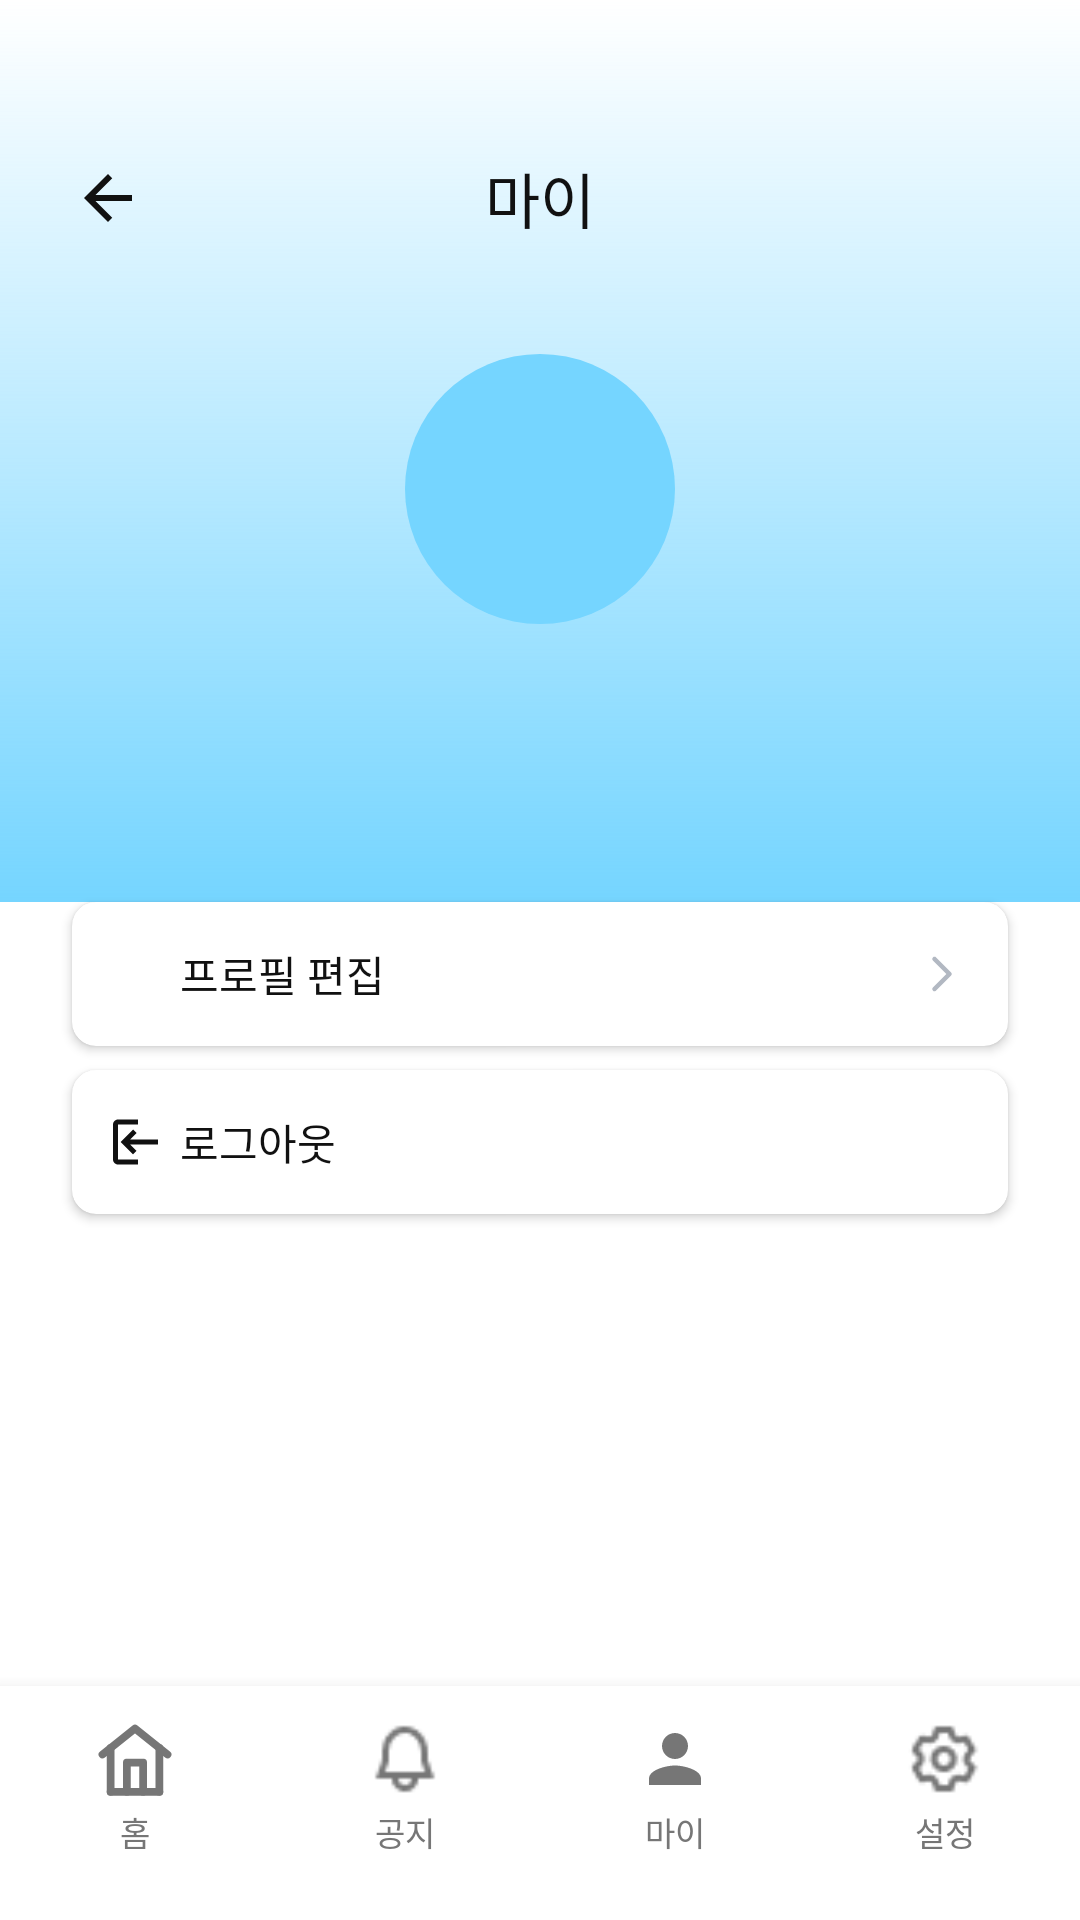

Icons on this 1080px x 1920px Android screen, each with its box as (x1, y1, x2, y2):
back: (84, 174, 132, 222)
chevron right: (932, 957, 952, 991)
